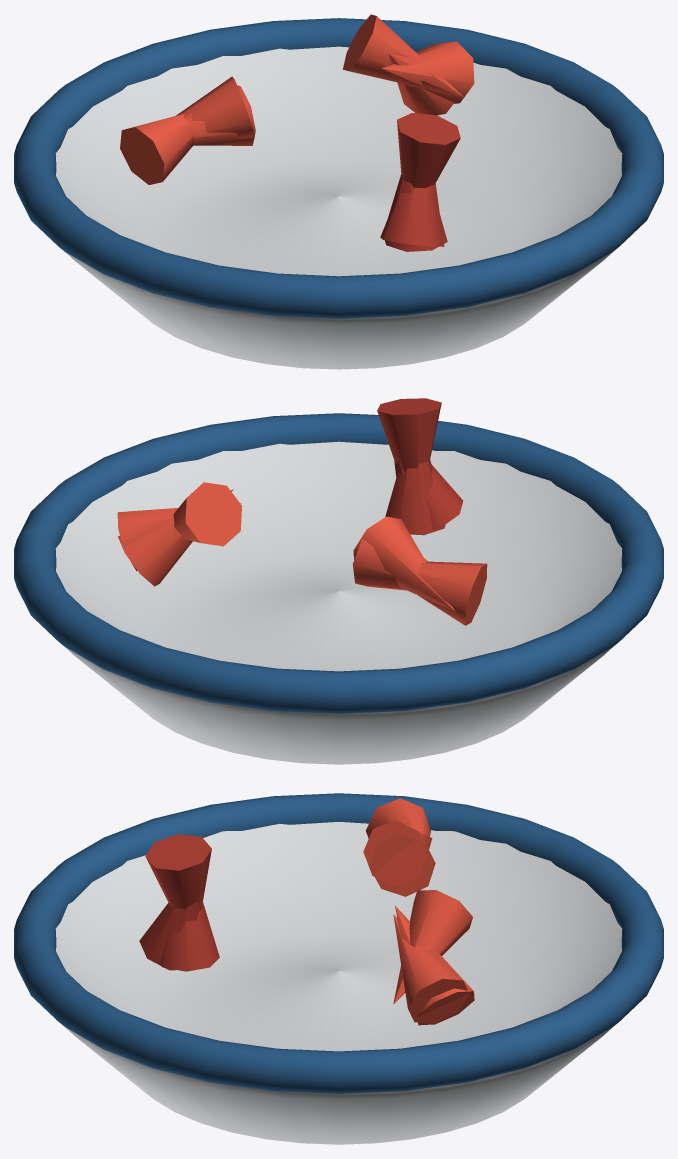
The model's file is wok_food_bowl_chili.glb.
The picture shows the model from 3 angles, top to bottom: view 1: azimuth 30°, elevation 25°; view 2: azimuth 150°, elevation 25°; view 3: azimuth 270°, elevation 25°; orthographic projection.
Size of the model in its own units: 0.214 by 0.0767 by 0.2128.
